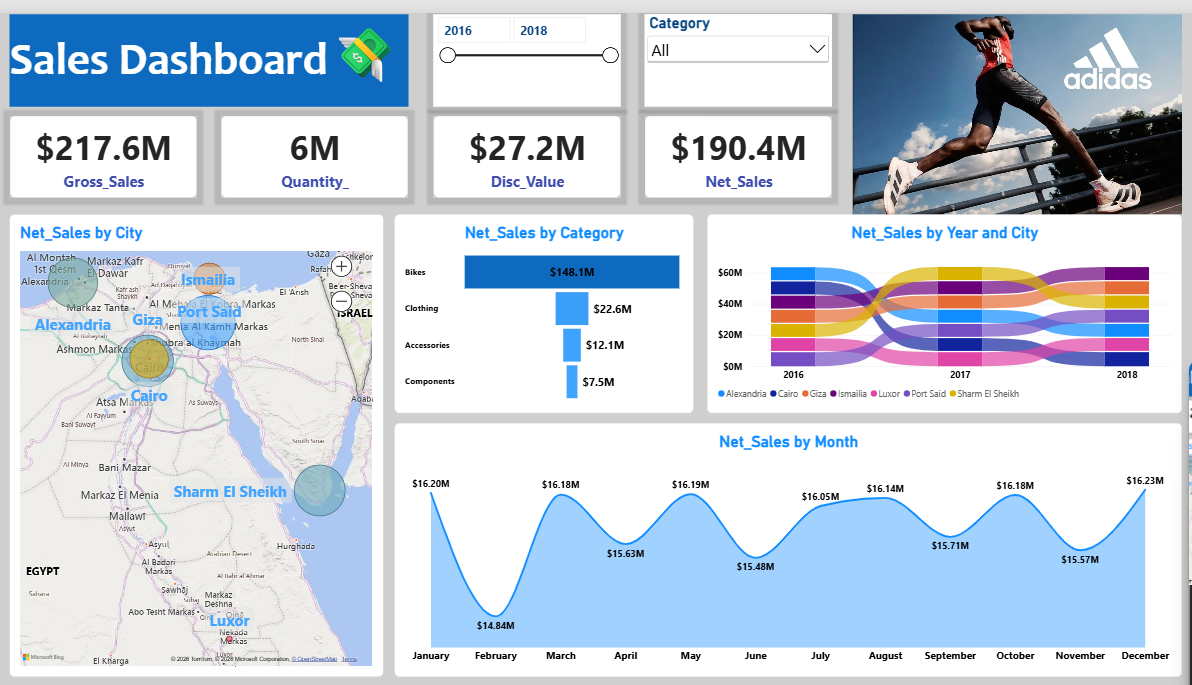

This screenshot's page, from the dashboard's own definition file:
{"tool":"powerbi","page":{"name":"Dashboard","canvas":[1920,1080],"ordinal":0},"visuals":[{"type":"cardVisual","fields":{"Data":["SalesT.Gross_Sales"]},"box":[20,164,300,132],"z":3},{"type":"cardVisual","fields":{"Data":["SalesT.Disc_Value"]},"box":[697.3,164,300,132],"z":4},{"type":"cardVisual","fields":{"Data":["SalesT.Net_Sales"]},"box":[1036,164,300,132],"z":5},{"type":"cardVisual","fields":{"Data":["SalesT.Quantity_"]},"box":[358.7,164,300,132],"z":6},{"type":"textbox","box":[20,2,638,148],"z":7},{"type":"map","fields":{"Category":["Location.City"],"Size":["SalesT.Net_Sales"]},"box":[20,322,598,740],"z":8},{"type":"lineChart","title":"Net_Sales by Month","fields":{"Category":["SalesT.Date.Variation.Date Hierarchy.Year","SalesT.Date.Variation.Date Hierarchy.Month"],"Y":["SalesT.Net_Sales"]},"box":[636,656,1260,406],"z":9},{"type":"funnel","fields":{"Category":["Product.Category"],"Y":["SalesT.Net_Sales"]},"box":[636,322,478,318],"z":10},{"type":"ribbonChart","fields":{"Category":["SalesT.Date.Variation.Date Hierarchy.Year"],"Series":["Location.City"],"Y":["SalesT.Net_Sales"]},"box":[1136,322,760,318],"z":11},{"type":"slicer","fields":{"Values":["SalesT.Date.Variation.Date Hierarchy.Year"]},"box":[698,2,300,148],"z":12},{"type":"slicer","fields":{"Values":["Product.Category"]},"box":[1036,2,300,148],"z":13},{"type":"image","box":[1368,2,528,320],"z":14}]}

Visuals, with their boxes in screenshot pixels (x1, y1, x2, y2), scaled from the page's 1920x1080 canvas onto the 1192x685 screenshot:
cardVisual - SalesT.Gross_Sales: x1=12, y1=104, x2=199, y2=188
cardVisual - SalesT.Disc_Value: x1=433, y1=104, x2=619, y2=188
cardVisual - SalesT.Net_Sales: x1=643, y1=104, x2=829, y2=188
cardVisual - SalesT.Quantity_: x1=223, y1=104, x2=409, y2=188
textbox: x1=12, y1=1, x2=409, y2=95
map - Location.City x SalesT.Net_Sales: x1=12, y1=204, x2=384, y2=674
"Net_Sales by Month" lineChart: x1=395, y1=416, x2=1177, y2=674
funnel - Product.Category x SalesT.Net_Sales: x1=395, y1=204, x2=692, y2=406
ribbonChart - SalesT.Date.Variation.Date Hierarchy.Year x Location.City: x1=705, y1=204, x2=1177, y2=406
slicer - SalesT.Date.Variation.Date Hierarchy.Year: x1=433, y1=1, x2=620, y2=95
slicer - Product.Category: x1=643, y1=1, x2=829, y2=95
image: x1=849, y1=1, x2=1177, y2=204
